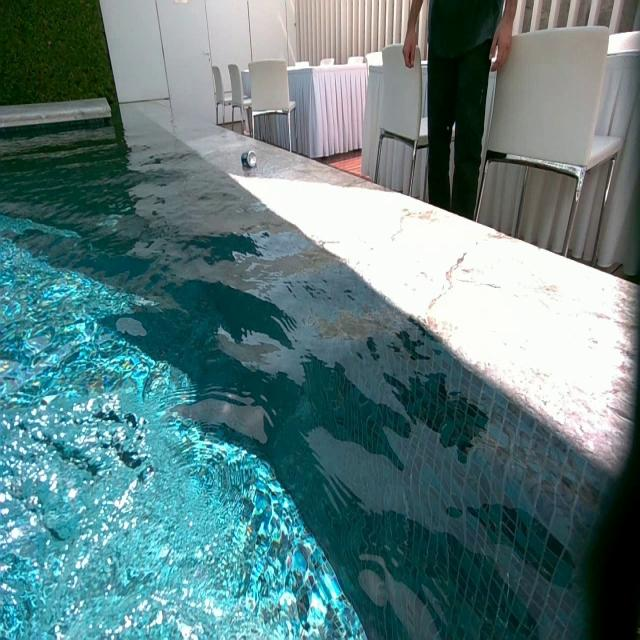Cans: (242, 150, 257, 167)
